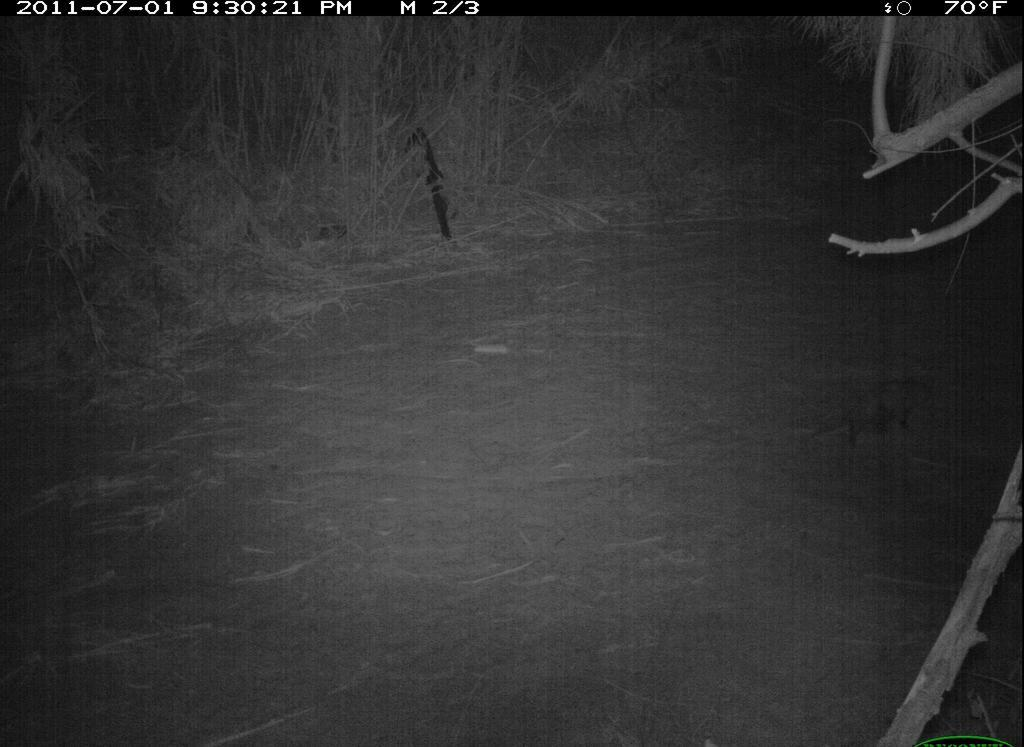opossum: (807, 367, 973, 473)
